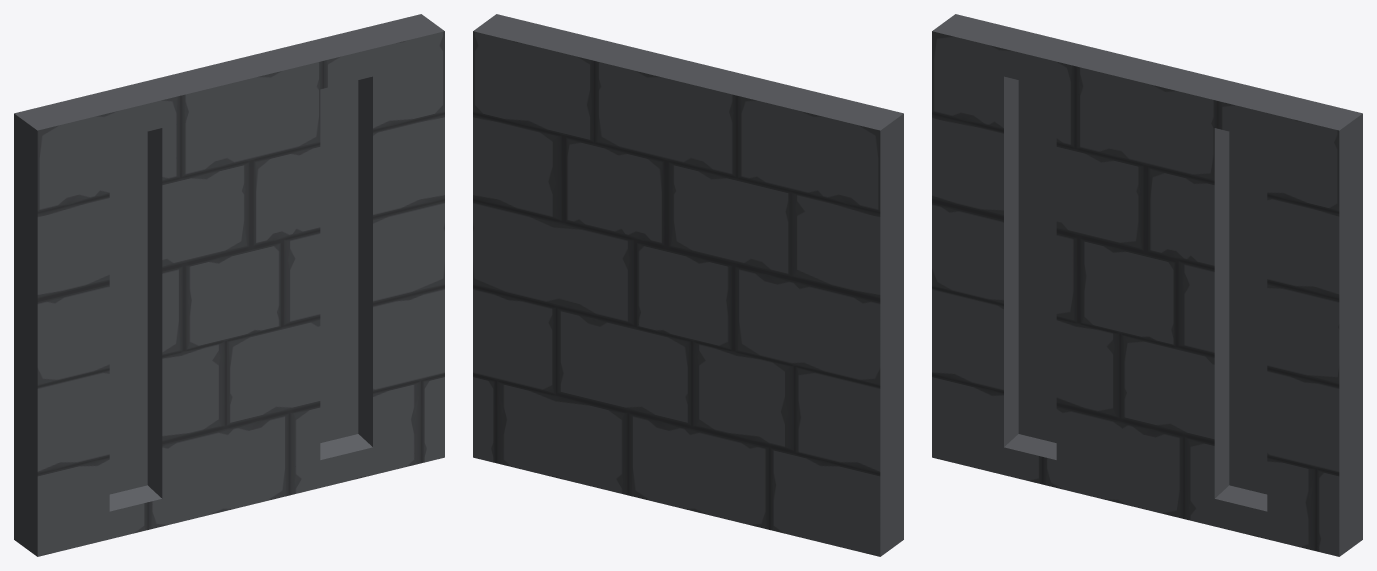
Rendered from castle_wall_b.gltf.
3 renders of one model, left to right at view 1: azimuth 30°, elevation 25°; view 2: azimuth 150°, elevation 25°; view 3: azimuth 330°, elevation 25°, orthographic.
Parts seen in each view (by area): view 1: castle_wall_b; view 2: castle_wall_b; view 3: castle_wall_b.
Boxes of the visible parts, bbox=[...] form: castle_wall_b: bbox=[14, 14, 444, 556]; castle_wall_b: bbox=[473, 14, 903, 556]; castle_wall_b: bbox=[932, 14, 1362, 556].
Bounding box in the file's own units: 5 × 5 × 0.5001.
1 material, 1 textured.
